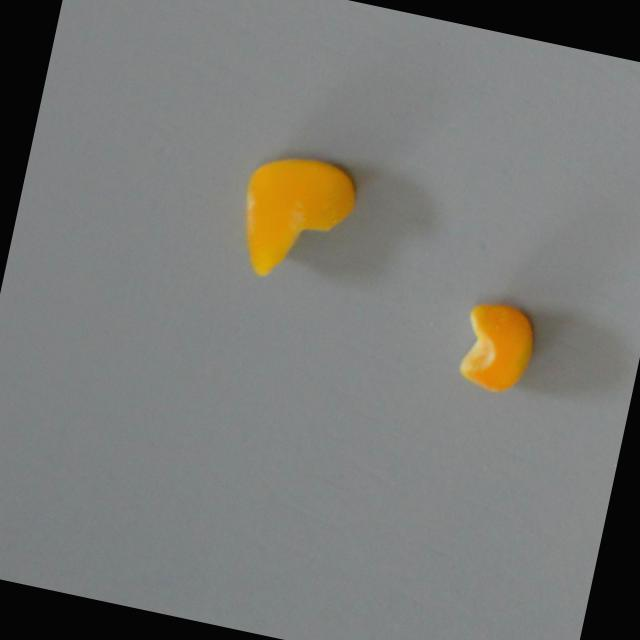no_canjicado: (226, 142, 364, 293)
no_desgerminado: (453, 295, 542, 398)
